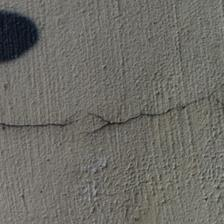Crack: (72, 4, 142, 74), (100, 64, 148, 89)
